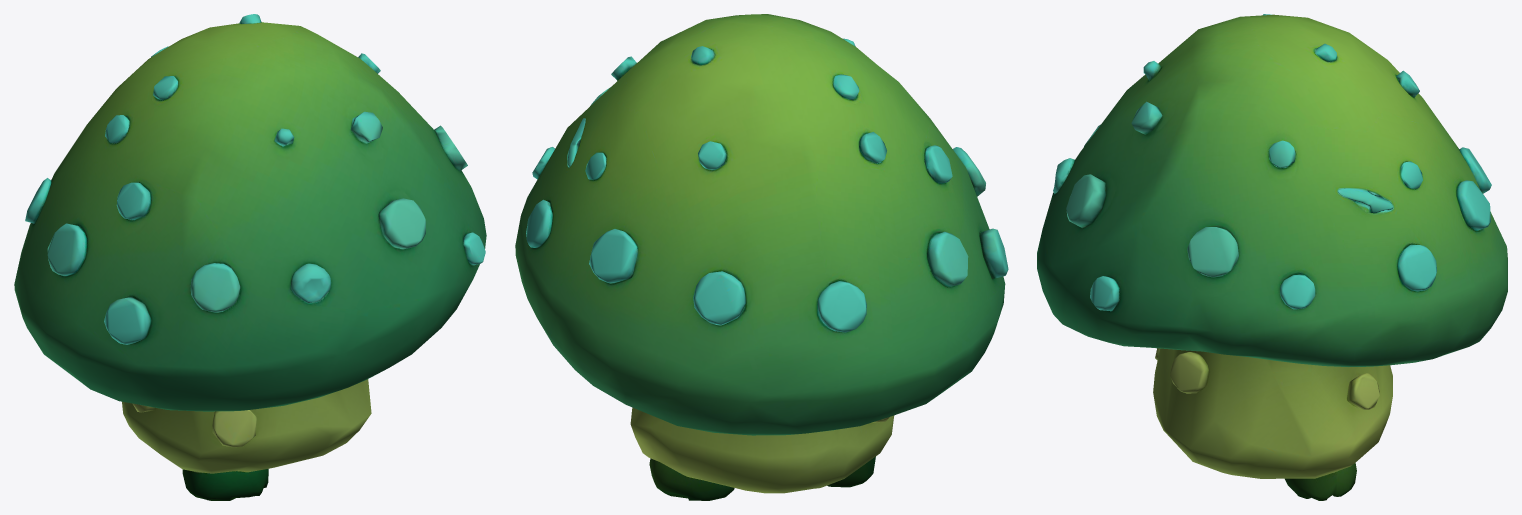
The picture shows the model from 3 angles, left to right: view 1: azimuth 30°, elevation 25°; view 2: azimuth 150°, elevation 25°; view 3: azimuth 270°, elevation 25°; orthographic projection. The views are drawn at different scales.
Parts seen in each view (by area): view 1: tripo_node_6826ea44-d19a-411f-b2e5-0d48e548a39c; view 2: tripo_node_6826ea44-d19a-411f-b2e5-0d48e548a39c; view 3: tripo_node_6826ea44-d19a-411f-b2e5-0d48e548a39c.
Boxes of the visible parts, left/top/right/bottom form: tripo_node_6826ea44-d19a-411f-b2e5-0d48e548a39c: left=14, top=14, right=486, bottom=500; tripo_node_6826ea44-d19a-411f-b2e5-0d48e548a39c: left=515, top=14, right=1008, bottom=500; tripo_node_6826ea44-d19a-411f-b2e5-0d48e548a39c: left=1037, top=14, right=1507, bottom=500.
Bounding box in the file's own units: 0.998 × 0.998 × 0.9746.
1 material, 1 textured.
